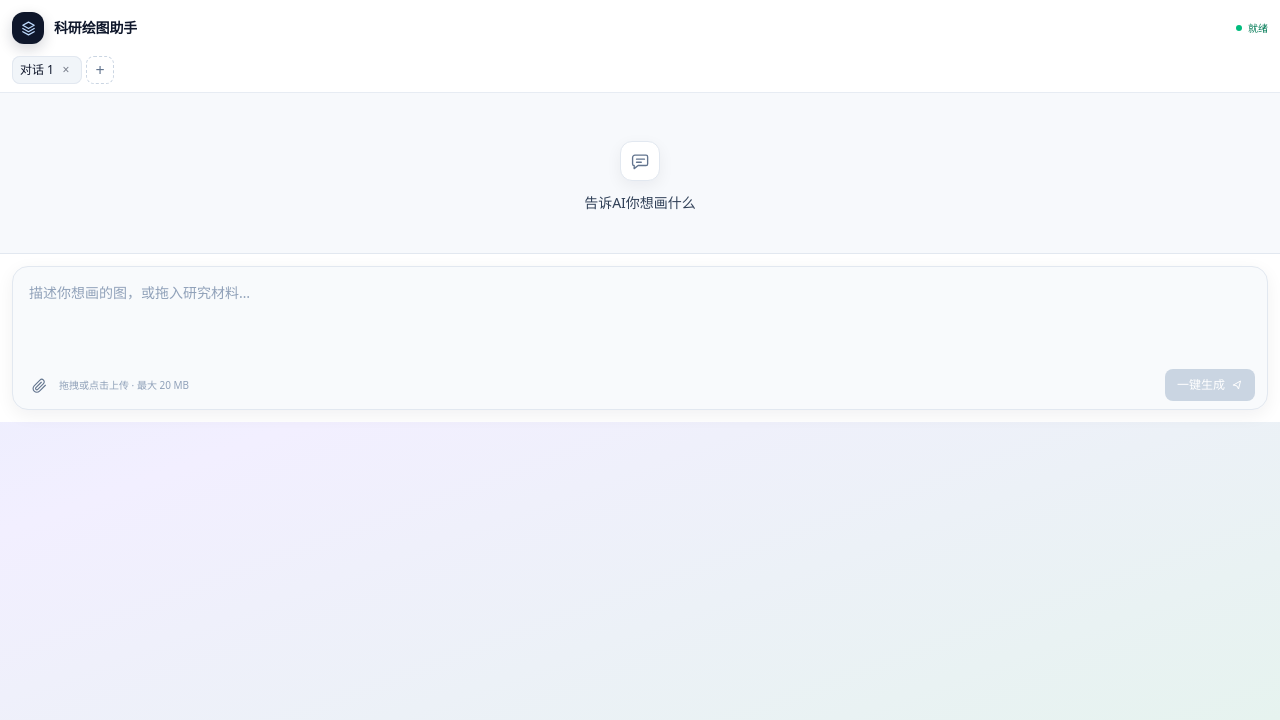
Test case: ChatPanel › AI 提问带可点击选项：渲染选项按钮，点选即作为回答发送并继续生成
This screenshot has width=1280, height=720.
Type "画个对比" into the text box with placeholder "描述你想画的图，或拖入研究材料…" at {"x": 640, "y": 317}, box [21,275,1259,359]
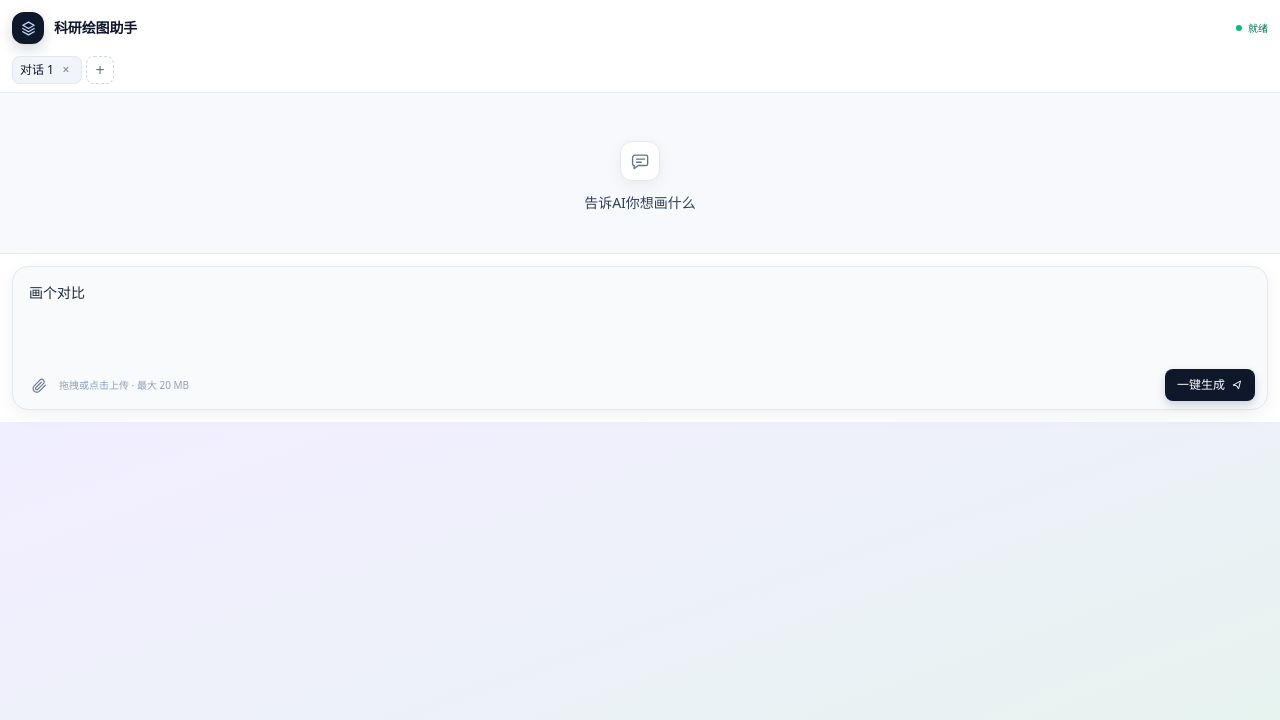
Click the button "一键生成" at {"x": 1210, "y": 385}, box [1165,369,1255,401]
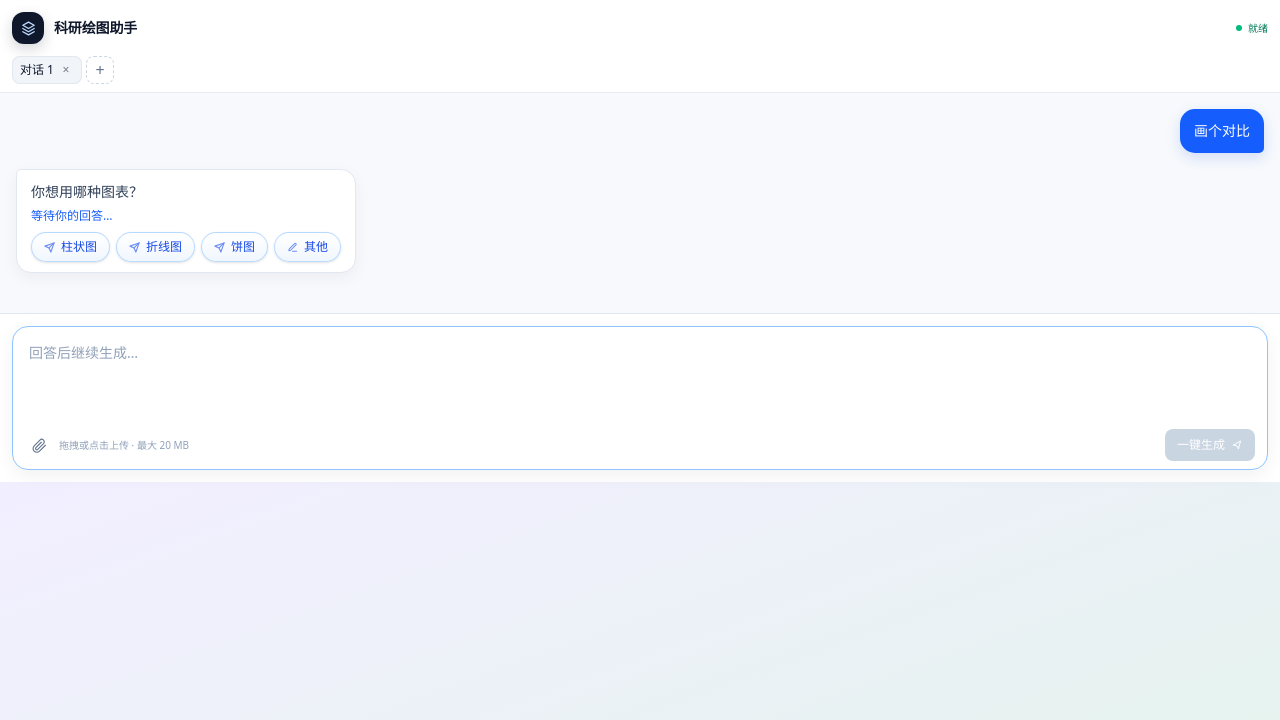
Result: the text "你想用哪种图表？" is shown at [31,182,143,201]
Result: the element with test id "question-options" is shown at [31,232,341,262]
Result: the button "柱状图" is shown at [31,232,110,262]
Click the button "饼图" at {"x": 234, "y": 247}, box [201,232,268,262]
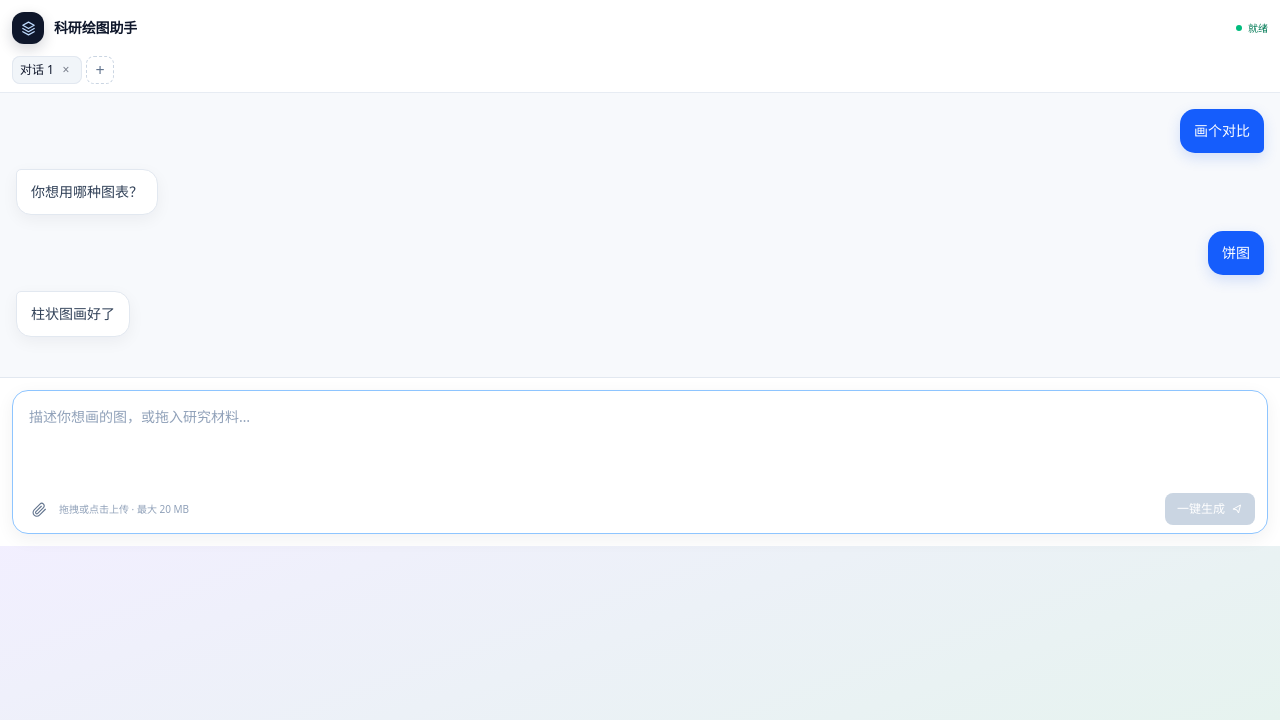
Result: the text "柱状图画好了" is shown at [16,291,130,337]
Result: the element with test id "question-options" is gone
